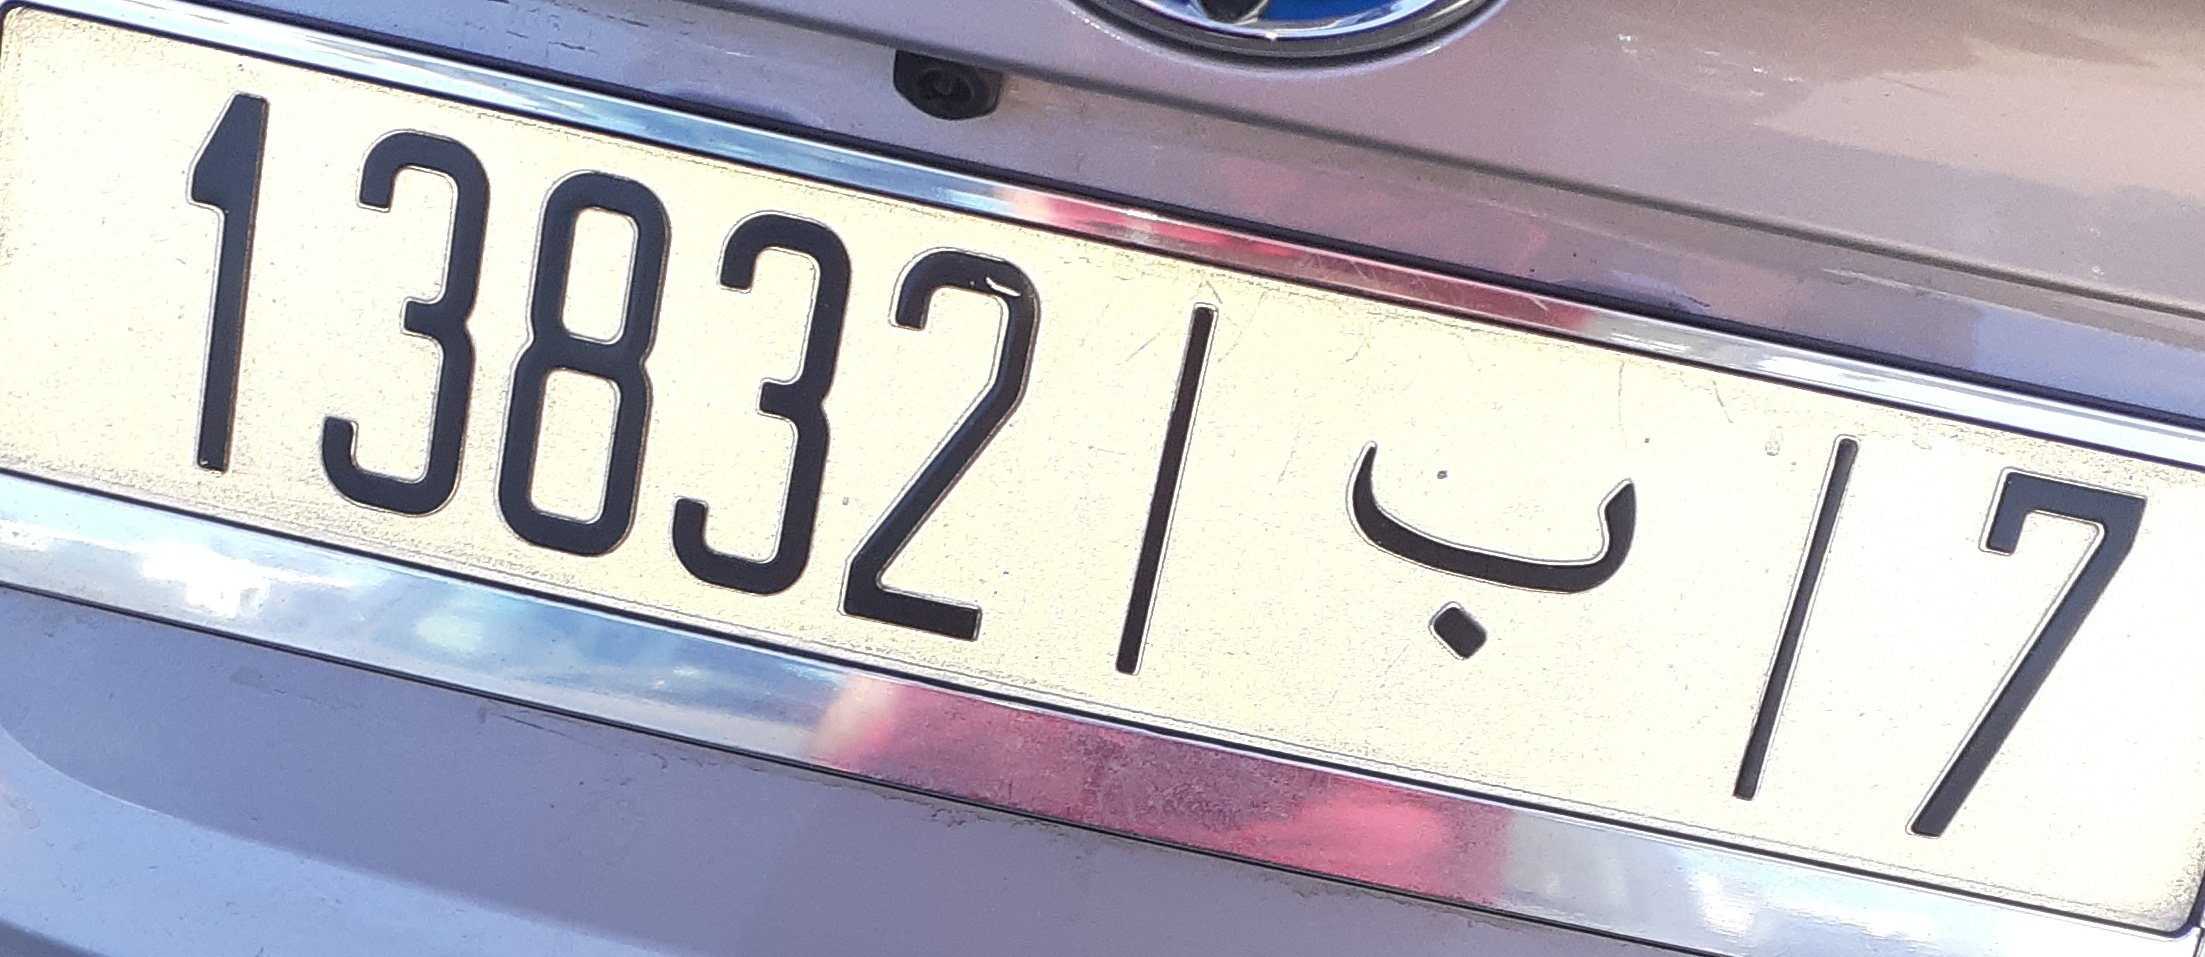1: (172, 74, 281, 490)
2: (837, 246, 1045, 638)
3: (312, 113, 499, 527), (668, 207, 853, 602)
7: (1909, 456, 2148, 844)
8: (489, 160, 679, 571)
b: (1331, 417, 1649, 670)
